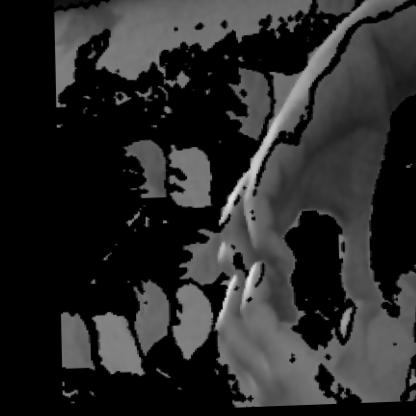heart: (200, 98, 404, 409)
